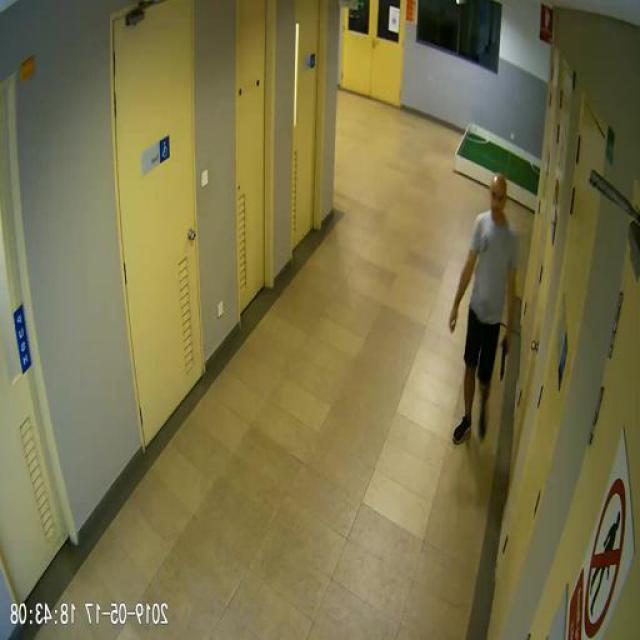Gun: (502, 337, 512, 378)
